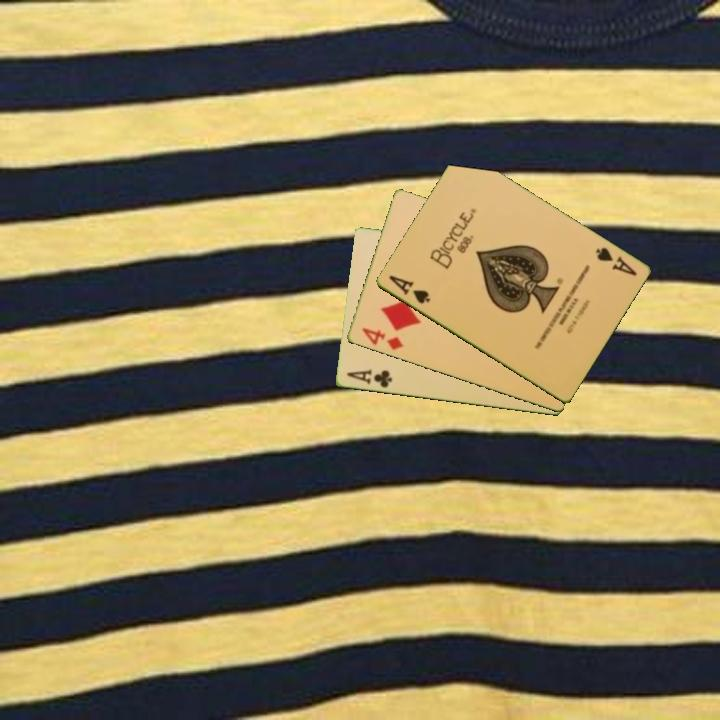4d: (358, 324, 406, 353)
Ac: (343, 366, 395, 391)
As: (385, 272, 433, 307), (592, 244, 640, 279)
